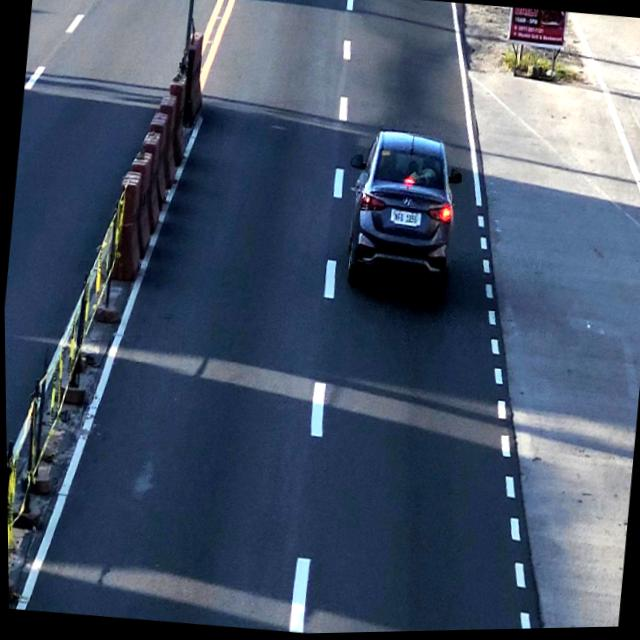Car: (341, 134, 459, 290)
License-Plate: (391, 208, 419, 234)
